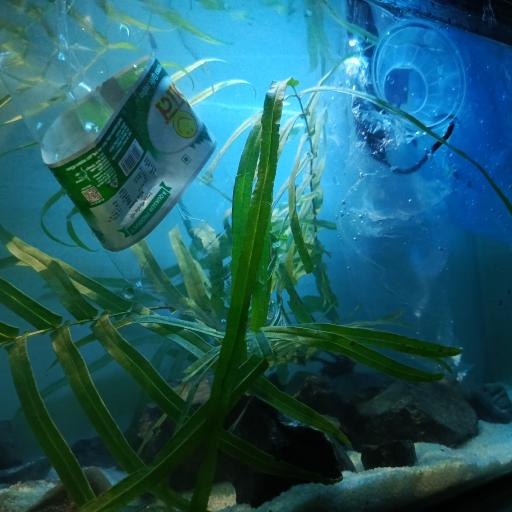glove: (350, 0, 457, 179)
plastic_bag: (320, 26, 512, 380)
plastic_bottle: (0, 0, 236, 307)
plastic_cup: (374, 22, 466, 128)
